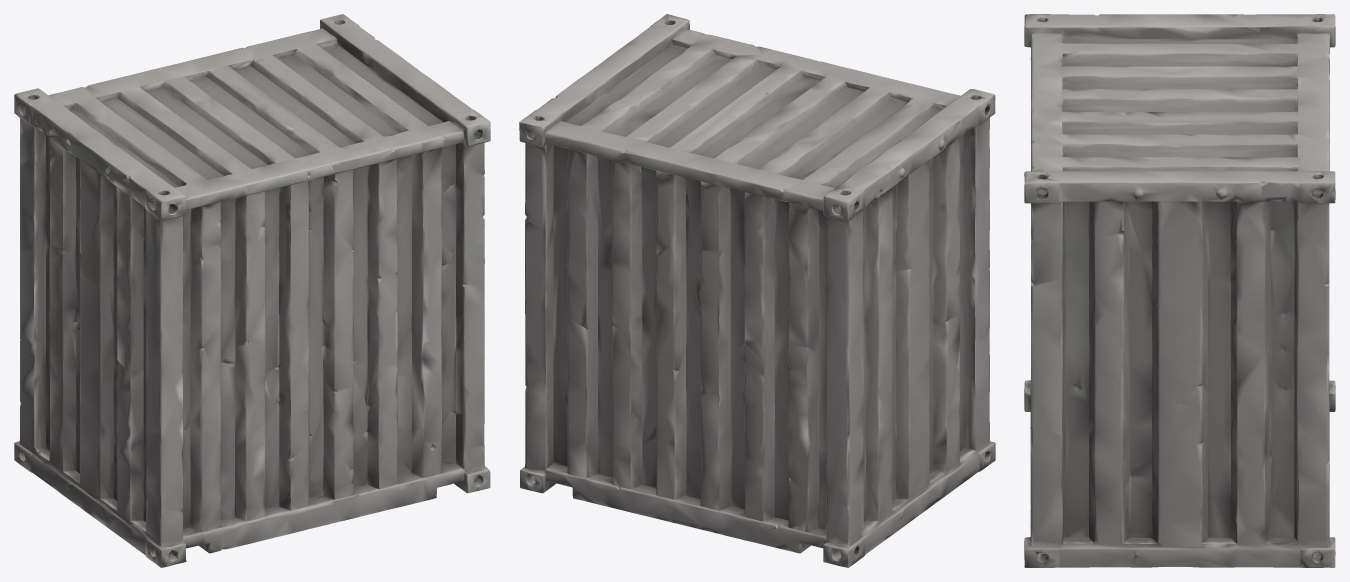
File: decor_container_panel_idle.glb
3 views of the same model, side by side, from view 1: azimuth 30°, elevation 25°; view 2: azimuth 150°, elevation 25°; view 3: azimuth 270°, elevation 25° (orthographic). The views are drawn at different scales.
Parts seen in each view (by area): view 1: tripo_node_4383bd61-01c0-4f2a-a3c5-a1d86deca83f; view 2: tripo_node_4383bd61-01c0-4f2a-a3c5-a1d86deca83f; view 3: tripo_node_4383bd61-01c0-4f2a-a3c5-a1d86deca83f.
Part boxes in pixels (bbox=[...]): tripo_node_4383bd61-01c0-4f2a-a3c5-a1d86deca83f: bbox=[14, 14, 490, 567]; tripo_node_4383bd61-01c0-4f2a-a3c5-a1d86deca83f: bbox=[519, 14, 995, 567]; tripo_node_4383bd61-01c0-4f2a-a3c5-a1d86deca83f: bbox=[1024, 14, 1335, 567].
Size of the model in its own units: 1.9 by 2 by 1.46.
Materials: 1 (1 with a texture image).
